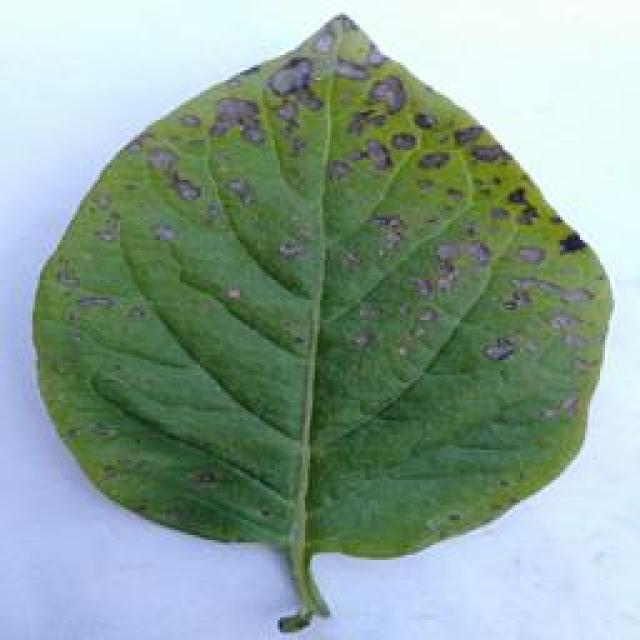Potato_Early_Blight: (33, 4, 614, 549)
